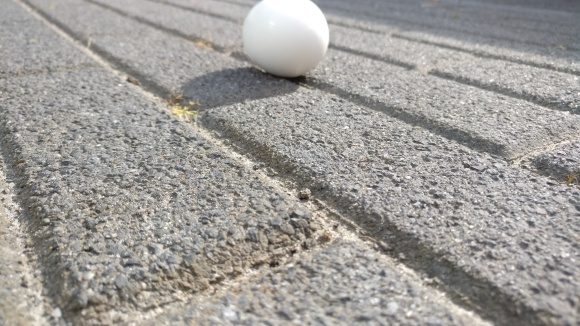egg: (240, 1, 329, 77)
